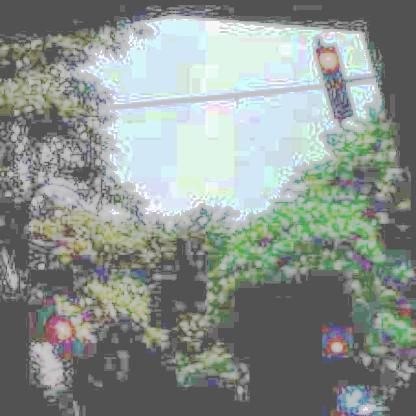Traffic Light -Red-: (47, 313, 92, 394), (312, 35, 356, 115)
